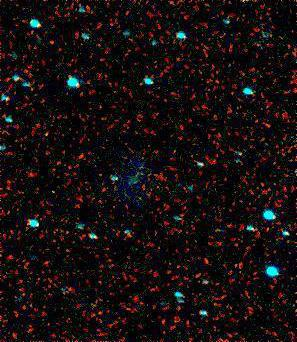star: (27, 118, 57, 148)
